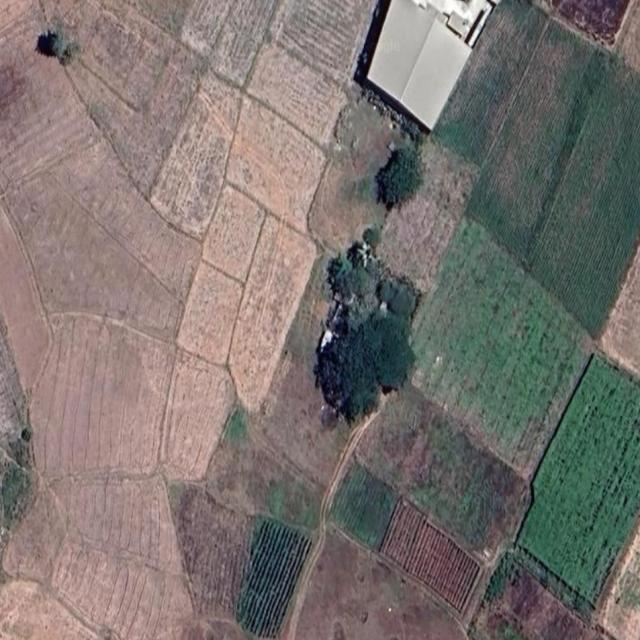Tree: (334, 318, 417, 416), (376, 148, 422, 212), (351, 264, 376, 304), (354, 233, 378, 267), (332, 250, 354, 282), (48, 29, 66, 59), (365, 228, 380, 247)
